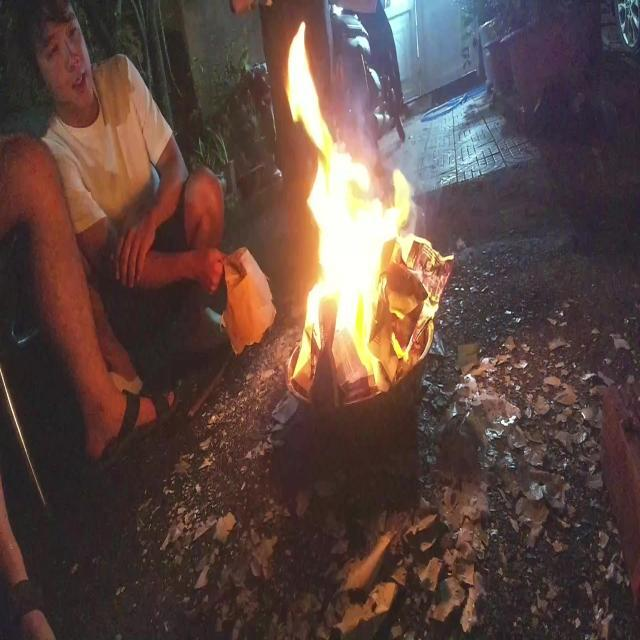Fire: (284, 19, 418, 402)
